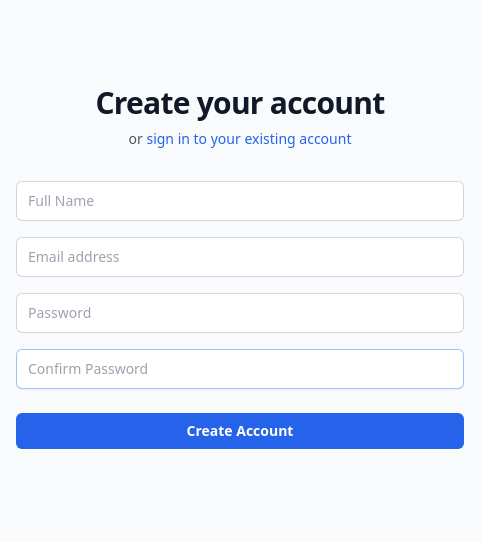
Test case: RegisterPage › Form Validation › prevents submission with weak password
Type "Test User" into the field with placeholder "Full Name". click: (240, 201)
box: x1=16 y1=181 x2=464 y2=221
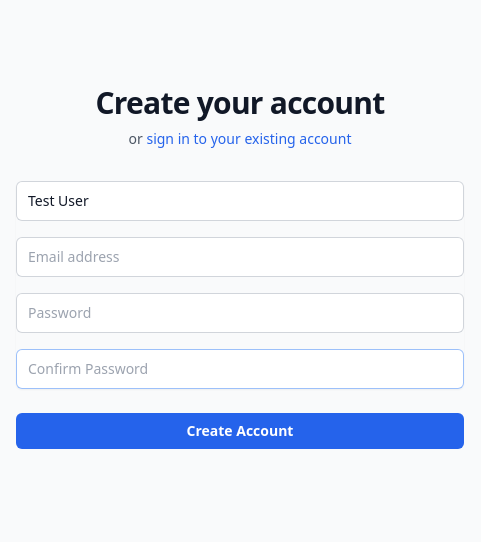
Type "test@example.com" into the field with placeholder "Email address". click: (240, 257)
box: x1=16 y1=237 x2=464 y2=277
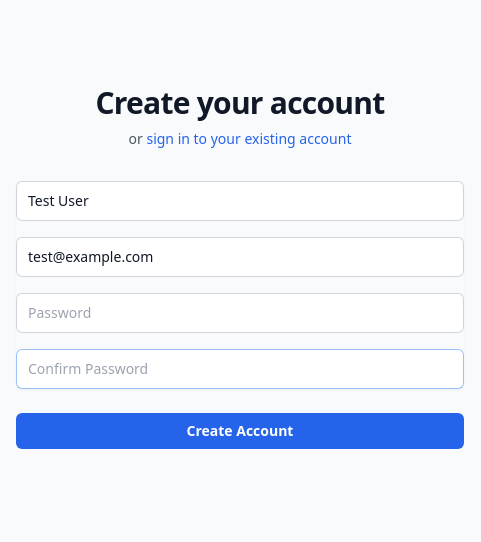
Type "weak" into the password field with placeholder "Password". click: (240, 313)
box: x1=16 y1=293 x2=464 y2=333
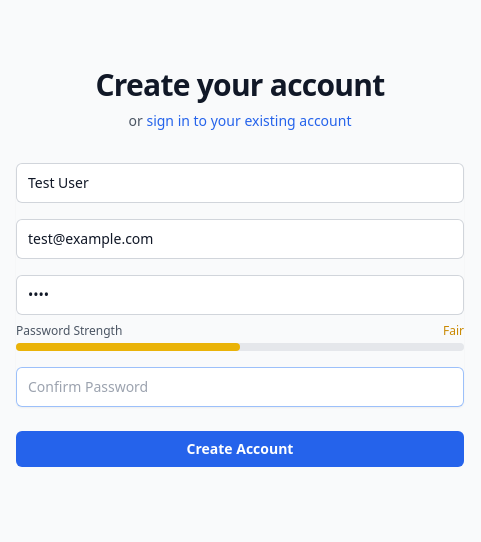
Type "weak" into the password field with placeholder "Confirm Password". click: (240, 387)
box: x1=16 y1=367 x2=464 y2=407
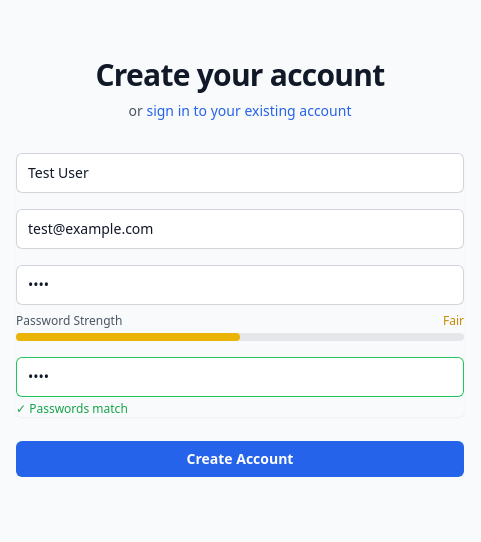
Click the button "Create Account". click: (240, 459)
box: x1=16 y1=441 x2=464 y2=477
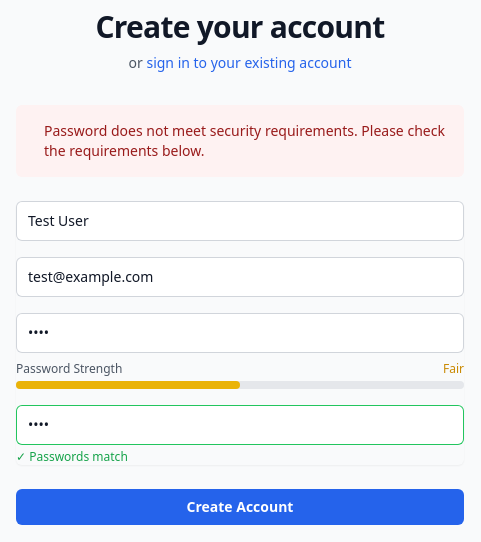
Expected: the heading "Password does not meet security requirements" is shown, x1=44 y1=121 x2=445 y2=160
